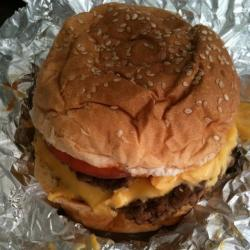burger: (24, 3, 246, 235)
